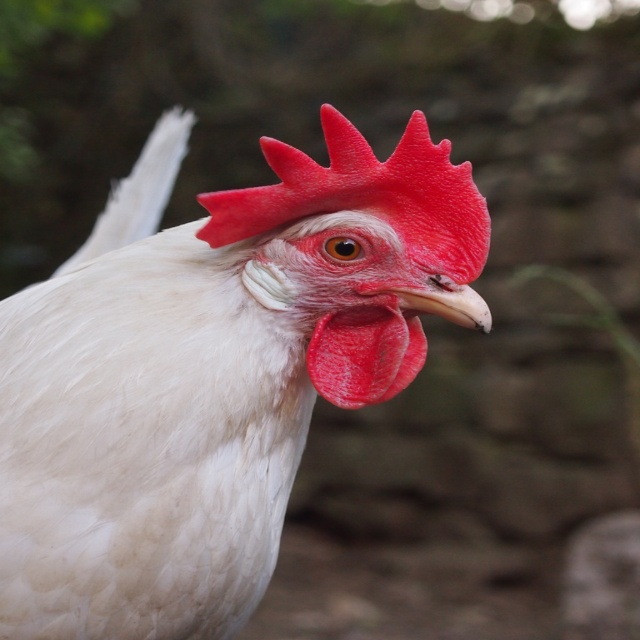Chicken: (0, 102, 518, 621)
